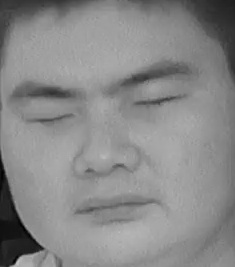blink: (132, 86, 185, 118), (33, 102, 73, 133)
mouth: (73, 183, 158, 229)
